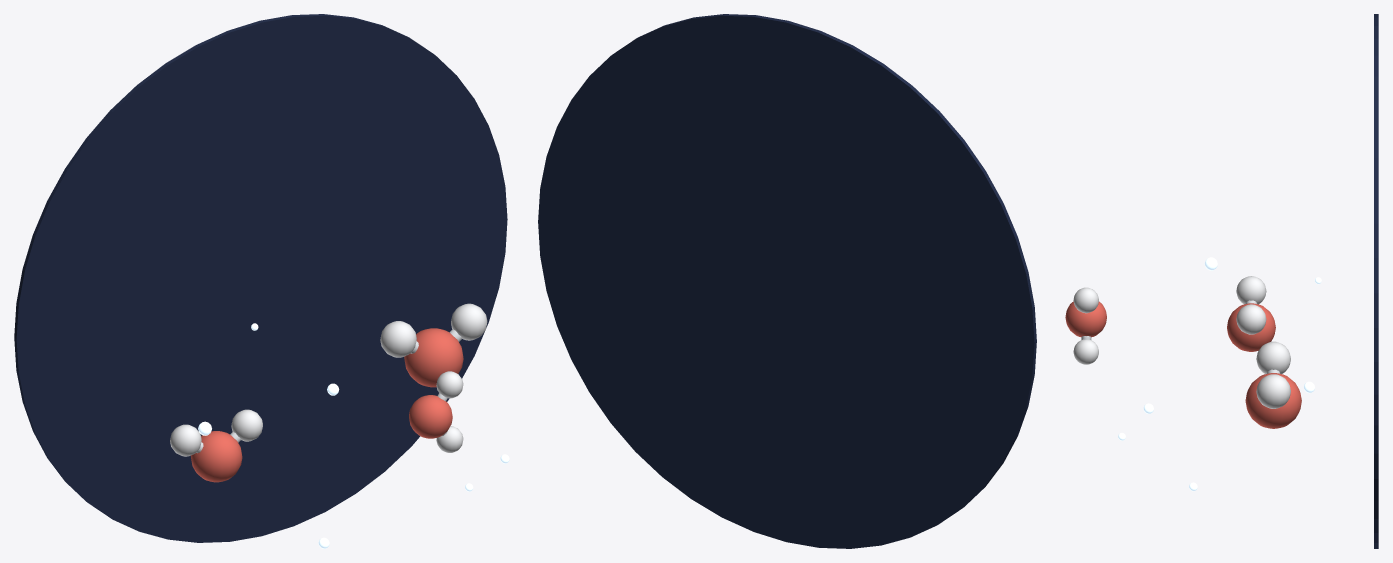
File: molecule_env.glb
3 views of the same model, side by side, from view 1: azimuth 30°, elevation 25°; view 2: azimuth 150°, elevation 25°; view 3: azimuth 270°, elevation 25° (orthographic). The views are drawn at different scales.
Visible parts, largest first — view 1: Backdrop, OxyB, OxyA, OxyC, HydB_0, HydB_1, HydA_1, HydA_0, HydC_1; view 2: Backdrop; view 3: Backdrop, OxyB, OxyA, OxyC, HydB_1, HydB_0, HydA_0, HydA_1, HydC_1, HydC_0.
Part boxes in pixels (<box>): Backdrop: <box>14,14,507,542</box>; OxyB: <box>404,328,463,387</box>; OxyA: <box>191,431,242,482</box>; OxyC: <box>409,395,452,438</box>; HydB_0: <box>380,321,416,357</box>; HydB_1: <box>451,303,487,340</box>; HydA_1: <box>170,424,201,456</box>; HydA_0: <box>231,409,262,441</box>; HydC_1: <box>436,371,463,398</box>; Backdrop: <box>538,14,1036,548</box>; Backdrop: <box>1374,14,1378,548</box>; OxyB: <box>1245,373,1301,428</box>; OxyA: <box>1227,303,1275,351</box>; OxyC: <box>1065,301,1106,337</box>; HydB_1: <box>1256,374,1290,408</box>; HydB_0: <box>1256,341,1290,373</box>; HydA_0: <box>1236,304,1266,334</box>; HydA_1: <box>1236,276,1266,304</box>; HydC_1: <box>1073,287,1098,313</box>; HydC_0: <box>1073,339,1098,364</box>.
Size of the model in its own units: 12 by 12 by 7.02.
